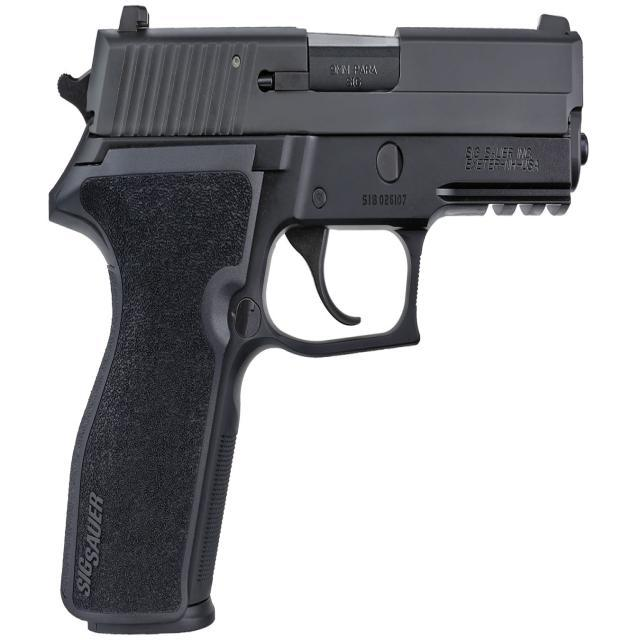Pistol: (12, 2, 609, 640)
